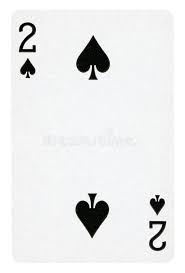two of spades: (12, 10, 176, 262)
